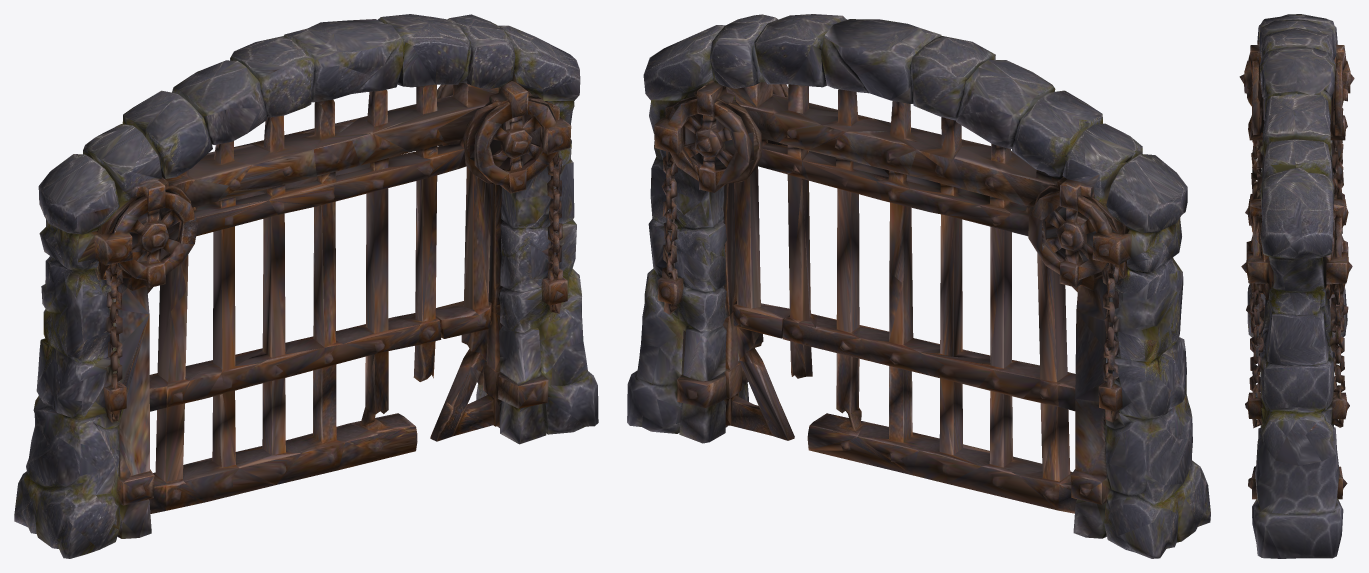
Rendered from rusted-floodgate.glb.
3 renders of one model, left to right at view 1: azimuth 30°, elevation 25°; view 2: azimuth 150°, elevation 25°; view 3: azimuth 270°, elevation 25°, orthographic. The views are drawn at different scales.
Parts seen in each view (by area): view 1: rusted-floodgate_LOD0; view 2: rusted-floodgate_LOD0; view 3: rusted-floodgate_LOD0.
Part boxes in pixels (left/top/right/bottom): rusted-floodgate_LOD0: left=14, top=14, right=598, bottom=558; rusted-floodgate_LOD0: left=627, top=14, right=1210, bottom=558; rusted-floodgate_LOD0: left=1239, top=14, right=1354, bottom=558.
Size of what is drawn, in the model's own units: 1.9 by 1.46 by 0.3899.
1 material, 1 textured.
